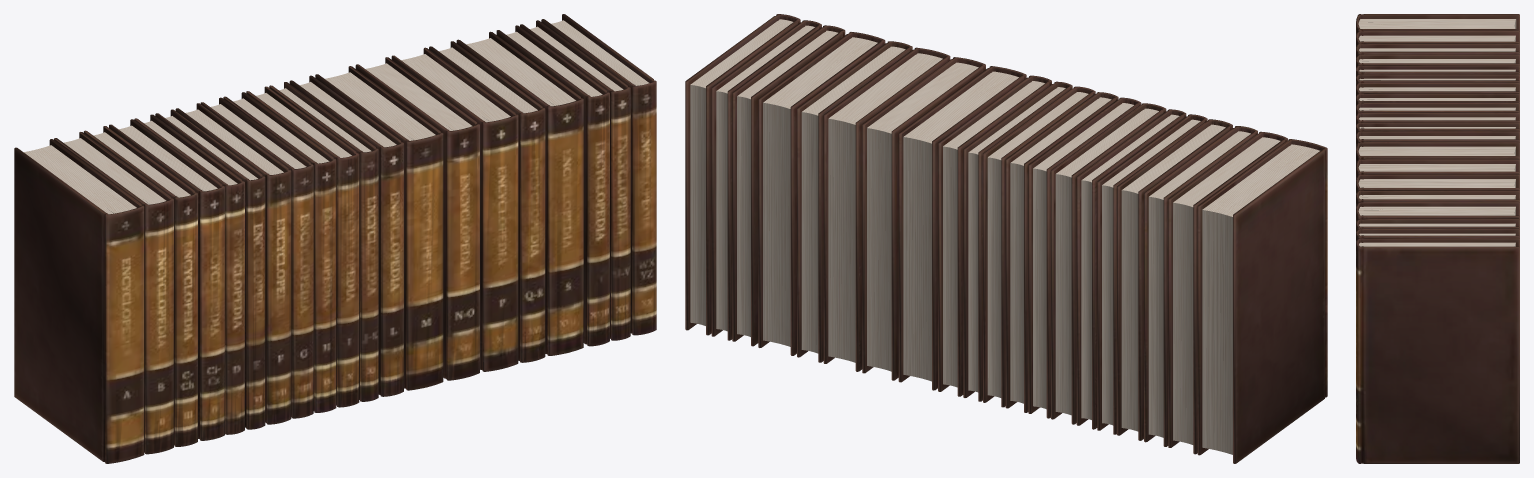
The model's file is book_encyclopedia_set_01_1k.glb.
The picture shows the model from 3 angles, left to right: view 1: azimuth 30°, elevation 25°; view 2: azimuth 150°, elevation 25°; view 3: azimuth 270°, elevation 25°; orthographic projection. The views are drawn at different scales.
Parts seen in each view (by area): view 1: book_encyclopedia_set_01_book01, book_encyclopedia_set_01_book13, book_encyclopedia_set_01_book15, book_encyclopedia_set_01_book17, book_encyclopedia_set_01_book14, book_encyclopedia_set_01_book02, book_encyclopedia_set_01_book16, book_encyclopedia_set_01_book04, book_encyclopedia_set_01_book18, book_encyclopedia_set_01_book20, book_encyclopedia_set_01_book07, book_encyclopedia_set_01_book12 (+8 smaller); view 2: book_encyclopedia_set_01_book01, book_encyclopedia_set_01_book13, book_encyclopedia_set_01_book15, book_encyclopedia_set_01_book17, book_encyclopedia_set_01_book14, book_encyclopedia_set_01_book02, book_encyclopedia_set_01_book04, book_encyclopedia_set_01_book16, book_encyclopedia_set_01_book20, book_encyclopedia_set_01_book18, book_encyclopedia_set_01_book07, book_encyclopedia_set_01_book12 (+8 smaller); view 3: book_encyclopedia_set_01_book20, book_encyclopedia_set_01_book13, book_encyclopedia_set_01_book01, book_encyclopedia_set_01_book17, book_encyclopedia_set_01_book15, book_encyclopedia_set_01_book14, book_encyclopedia_set_01_book02, book_encyclopedia_set_01_book16, book_encyclopedia_set_01_book03, book_encyclopedia_set_01_book12, book_encyclopedia_set_01_book04, book_encyclopedia_set_01_book07 (+8 smaller).
Part boxes in pixels (<box>): book_encyclopedia_set_01_book01: <box>14,139,144,463</box>; book_encyclopedia_set_01_book13: <box>315,66,443,390</box>; book_encyclopedia_set_01_book15: <box>391,47,518,371</box>; book_encyclopedia_set_01_book17: <box>456,31,583,355</box>; book_encyclopedia_set_01_book14: <box>355,57,479,380</box>; book_encyclopedia_set_01_book02: <box>54,132,173,454</box>; book_encyclopedia_set_01_book16: <box>429,41,545,362</box>; book_encyclopedia_set_01_book04: <box>109,119,224,440</box>; book_encyclopedia_set_01_book18: <box>496,25,609,346</box>; book_encyclopedia_set_01_book20: <box>541,14,656,335</box>; book_encyclopedia_set_01_book07: <box>175,103,291,424</box>; book_encyclopedia_set_01_book12: <box>289,75,403,396</box>; book_encyclopedia_set_01_book01: <box>1197,139,1327,463</box>; book_encyclopedia_set_01_book13: <box>898,66,1026,390</box>; book_encyclopedia_set_01_book15: <box>823,47,950,371</box>; book_encyclopedia_set_01_book17: <box>758,32,885,355</box>; book_encyclopedia_set_01_book14: <box>862,57,985,380</box>; book_encyclopedia_set_01_book02: <box>1168,131,1287,454</box>; book_encyclopedia_set_01_book04: <box>1117,119,1232,440</box>; book_encyclopedia_set_01_book16: <box>797,41,912,362</box>; book_encyclopedia_set_01_book20: <box>685,14,800,335</box>; book_encyclopedia_set_01_book18: <box>732,25,845,346</box>; book_encyclopedia_set_01_book07: <box>1051,103,1166,424</box>; book_encyclopedia_set_01_book12: <box>938,75,1051,396</box>; book_encyclopedia_set_01_book20: <box>1356,238,1519,463</box>; book_encyclopedia_set_01_book13: <box>1356,142,1519,165</box>; book_encyclopedia_set_01_book01: <box>1356,14,1519,35</box>; book_encyclopedia_set_01_book17: <box>1356,202,1519,221</box>; book_encyclopedia_set_01_book15: <box>1356,174,1519,194</box>; book_encyclopedia_set_01_book14: <box>1356,159,1519,180</box>; book_encyclopedia_set_01_book02: <box>1356,30,1519,47</box>; book_encyclopedia_set_01_book16: <box>1356,190,1519,222</box>; book_encyclopedia_set_01_book03: <box>1356,43,1519,58</box>; book_encyclopedia_set_01_book12: <box>1356,131,1519,149</box>; book_encyclopedia_set_01_book04: <box>1356,54,1519,70</box>; book_encyclopedia_set_01_book07: <box>1356,82,1519,96</box>.
Size of the model in its own units: 0.5513 by 0.2374 by 0.1631.
2 materials, 2 textured.
